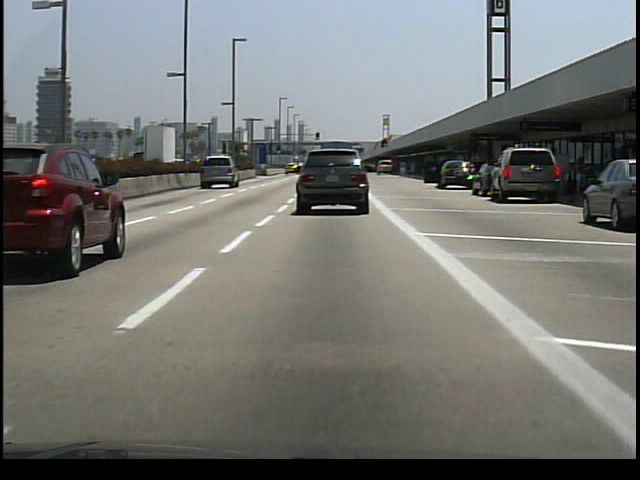person: (571, 152, 589, 201)
